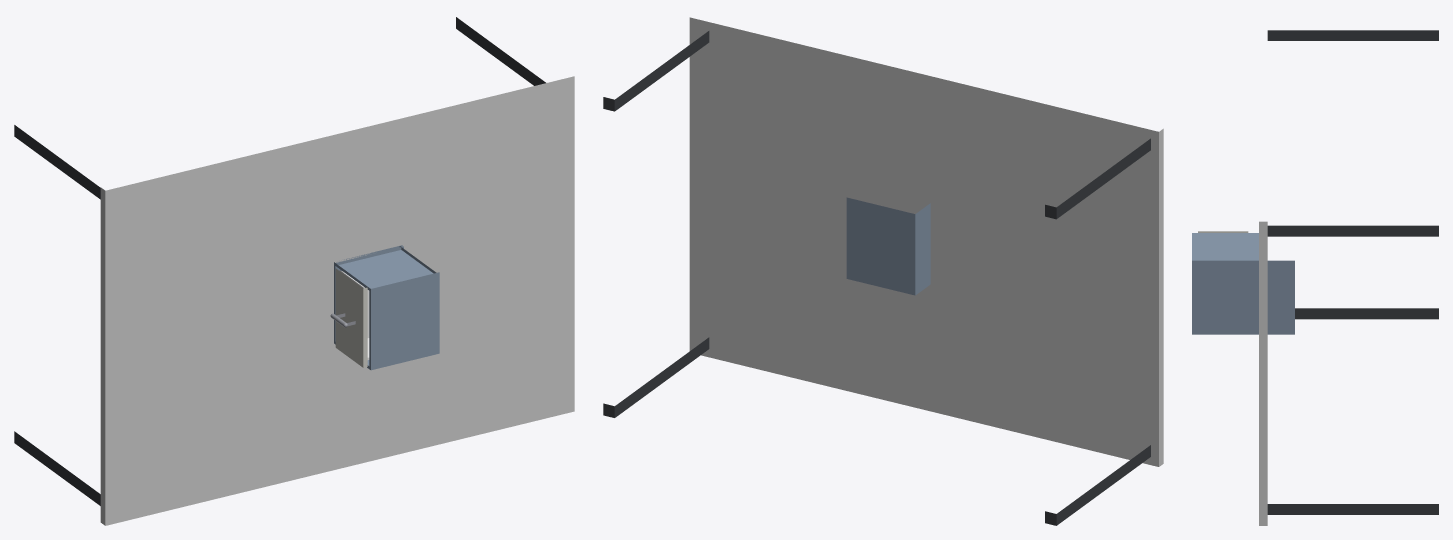
3 views of the same model, side by side, from view 1: azimuth 30°, elevation 25°; view 2: azimuth 150°, elevation 25°; view 3: azimuth 270°, elevation 25° (orthographic). The views are drawn at different scales.
Parts seen in each view (by area): view 1: s0, s1, s2; view 2: s0, s1; view 3: s0, s1.
Boxes of the visible parts, x1,y1,x2,y2 form: s0: [14, 17, 574, 525]; s1: [334, 245, 439, 370]; s2: [330, 268, 369, 367]; s0: [603, 17, 1163, 525]; s1: [846, 197, 930, 295]; s0: [1259, 30, 1438, 525]; s1: [1192, 233, 1294, 334].
Bounding box in the file's own units: 2.05 × 1.4 × 1.03.
